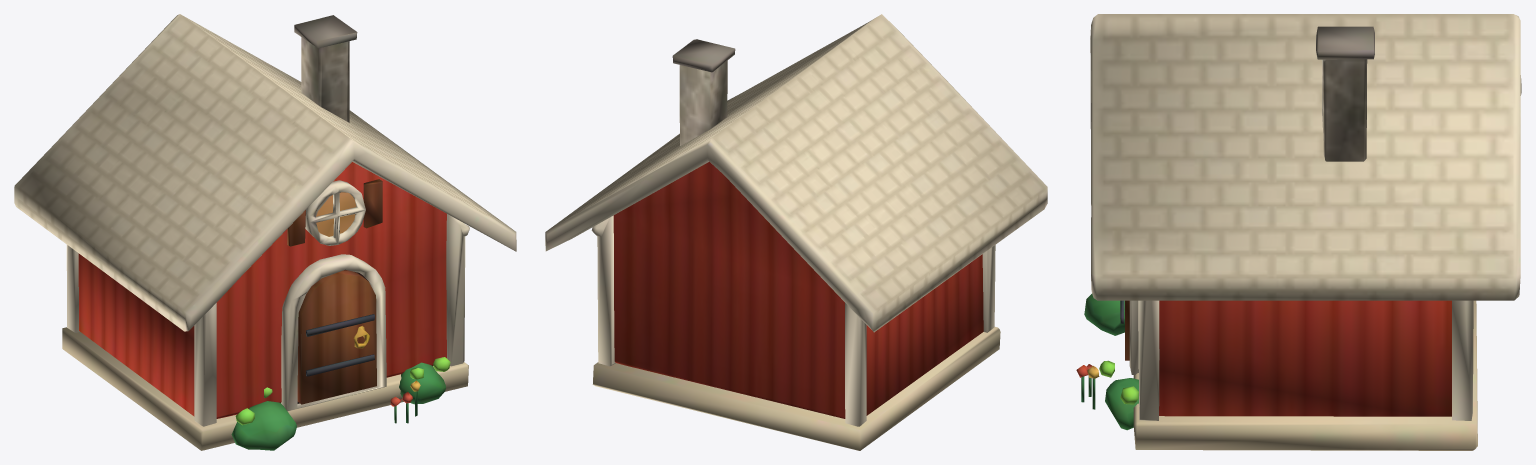
The model's file is cottage.glb.
The picture shows the model from 3 angles, left to right: view 1: azimuth 30°, elevation 25°; view 2: azimuth 150°, elevation 25°; view 3: azimuth 270°, elevation 25°; orthographic projection. The views are drawn at different scales.
Parts seen in each view (by area): view 1: foundation, window-glass; view 2: foundation; view 3: foundation.
Part boxes in pixels (left/top/right/bottom): foundation: left=14, top=14, right=516, bottom=450; window-glass: left=316, top=192, right=356, bottom=236; foundation: left=545, top=14, right=1047, bottom=450; foundation: left=1076, top=14, right=1521, bottom=450.
Bounding box in the file's own units: 2.6 × 2.33 × 2.48.
2 materials, 2 textured.
